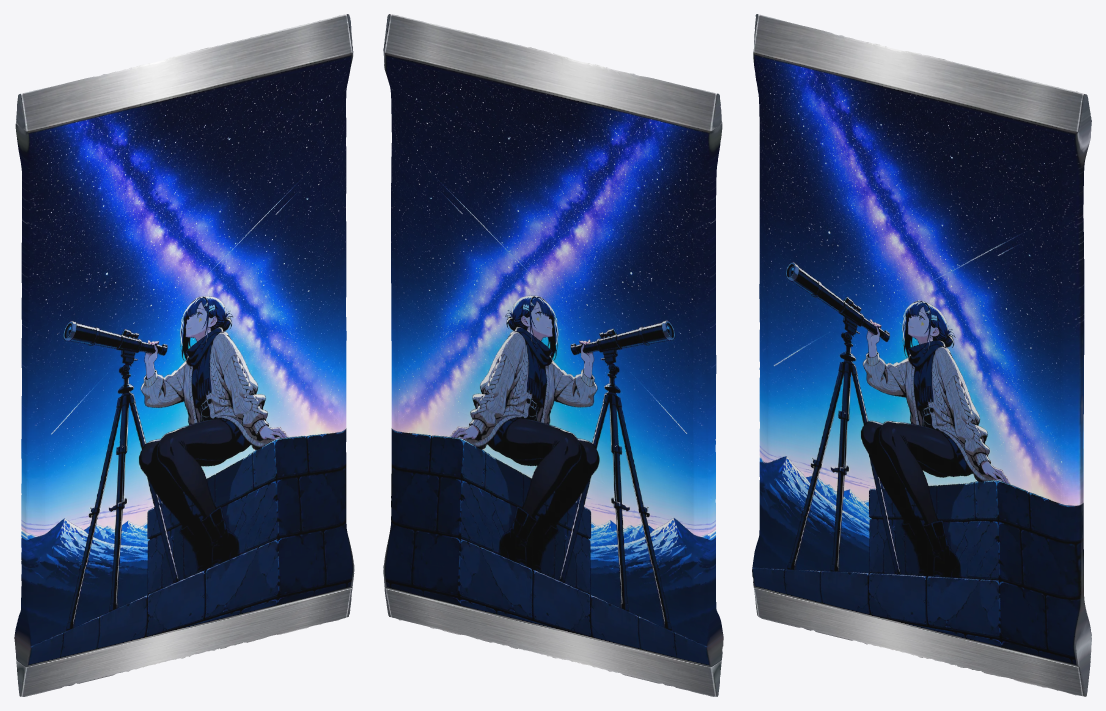
File: bustina_asset_01.glb
The picture shows the model from 3 angles, left to right: view 1: azimuth 30°, elevation 25°; view 2: azimuth 150°, elevation 25°; view 3: azimuth 330°, elevation 25°; orthographic projection.
Parts seen in each view (by area): view 1: Mesh1.0; view 2: Mesh1.0; view 3: Mesh1.0.
Part boxes in pixels (x1,y1,x2,y2): Mesh1.0: (14,14,354,696); Mesh1.0: (383,14,723,696); Mesh1.0: (752,14,1091,696).
Size of the model in its own units: 1.15 by 2 by 0.1013.
1 material, 1 textured.
